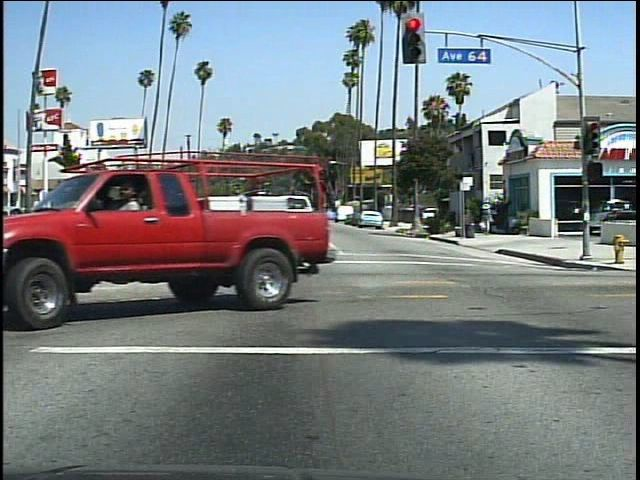person: (120, 175, 162, 307), (478, 199, 501, 238)
